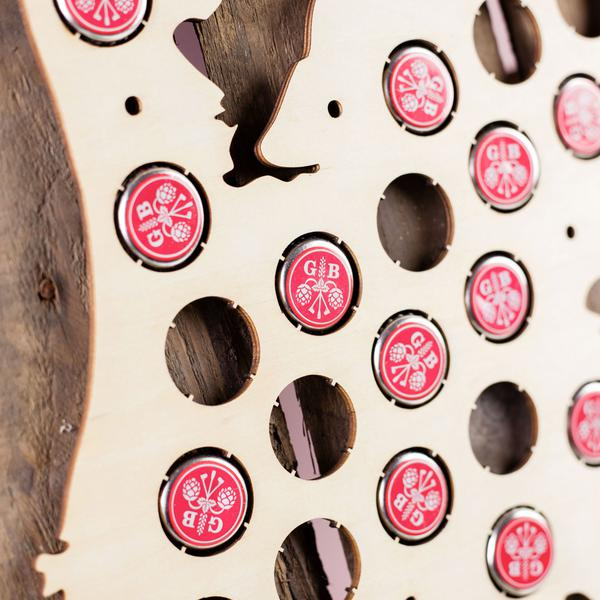grolsch: (112, 162, 210, 271), (158, 452, 254, 557), (276, 230, 358, 337), (376, 447, 451, 547), (374, 311, 448, 405), (385, 42, 459, 135), (470, 123, 541, 213), (484, 505, 552, 596), (465, 255, 532, 347)
